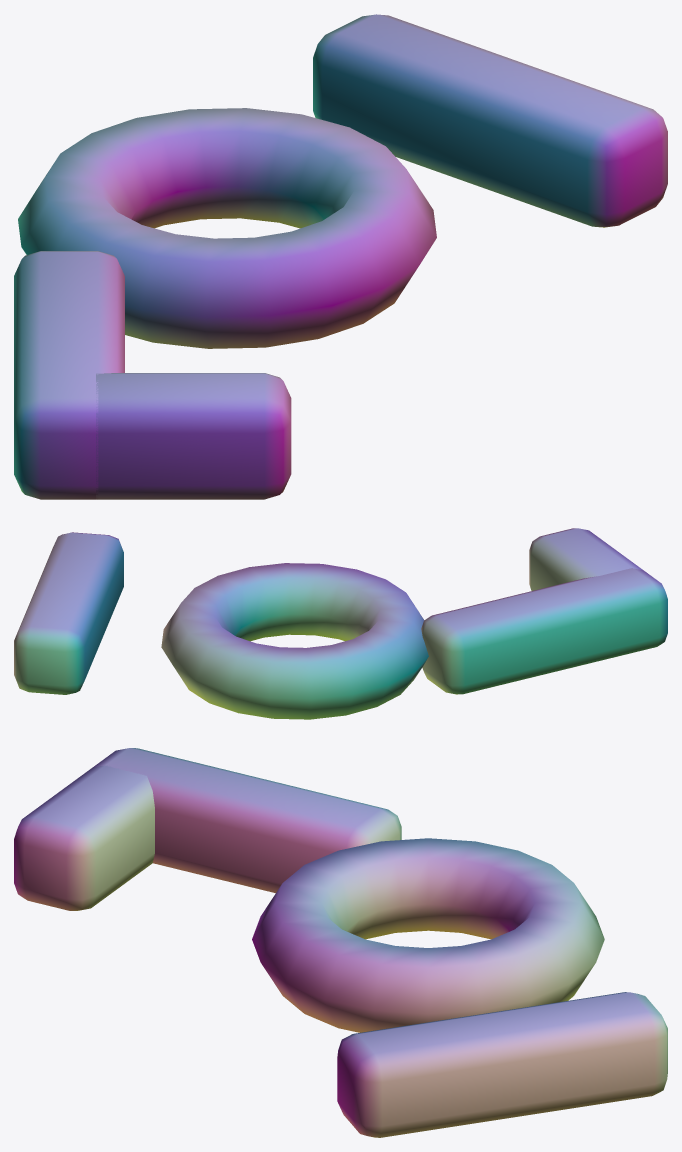
Rendered from env_deco_magnet.glb.
The picture shows the model from 3 angles, top to bottom: view 1: azimuth 30°, elevation 25°; view 2: azimuth 150°, elevation 25°; view 3: azimuth 270°, elevation 25°; orthographic projection. The views are drawn at different scales.
Visible parts, largest first — view 1: env_deco_magnet_mesh; view 2: env_deco_magnet_mesh; view 3: env_deco_magnet_mesh.
Part boxes in pixels (x1,y1,x2,y2): env_deco_magnet_mesh: (14,14,667,499); env_deco_magnet_mesh: (14,528,667,719); env_deco_magnet_mesh: (14,748,667,1137).
Size of the model in its own units: 0.412 by 0.05 by 0.3522.
